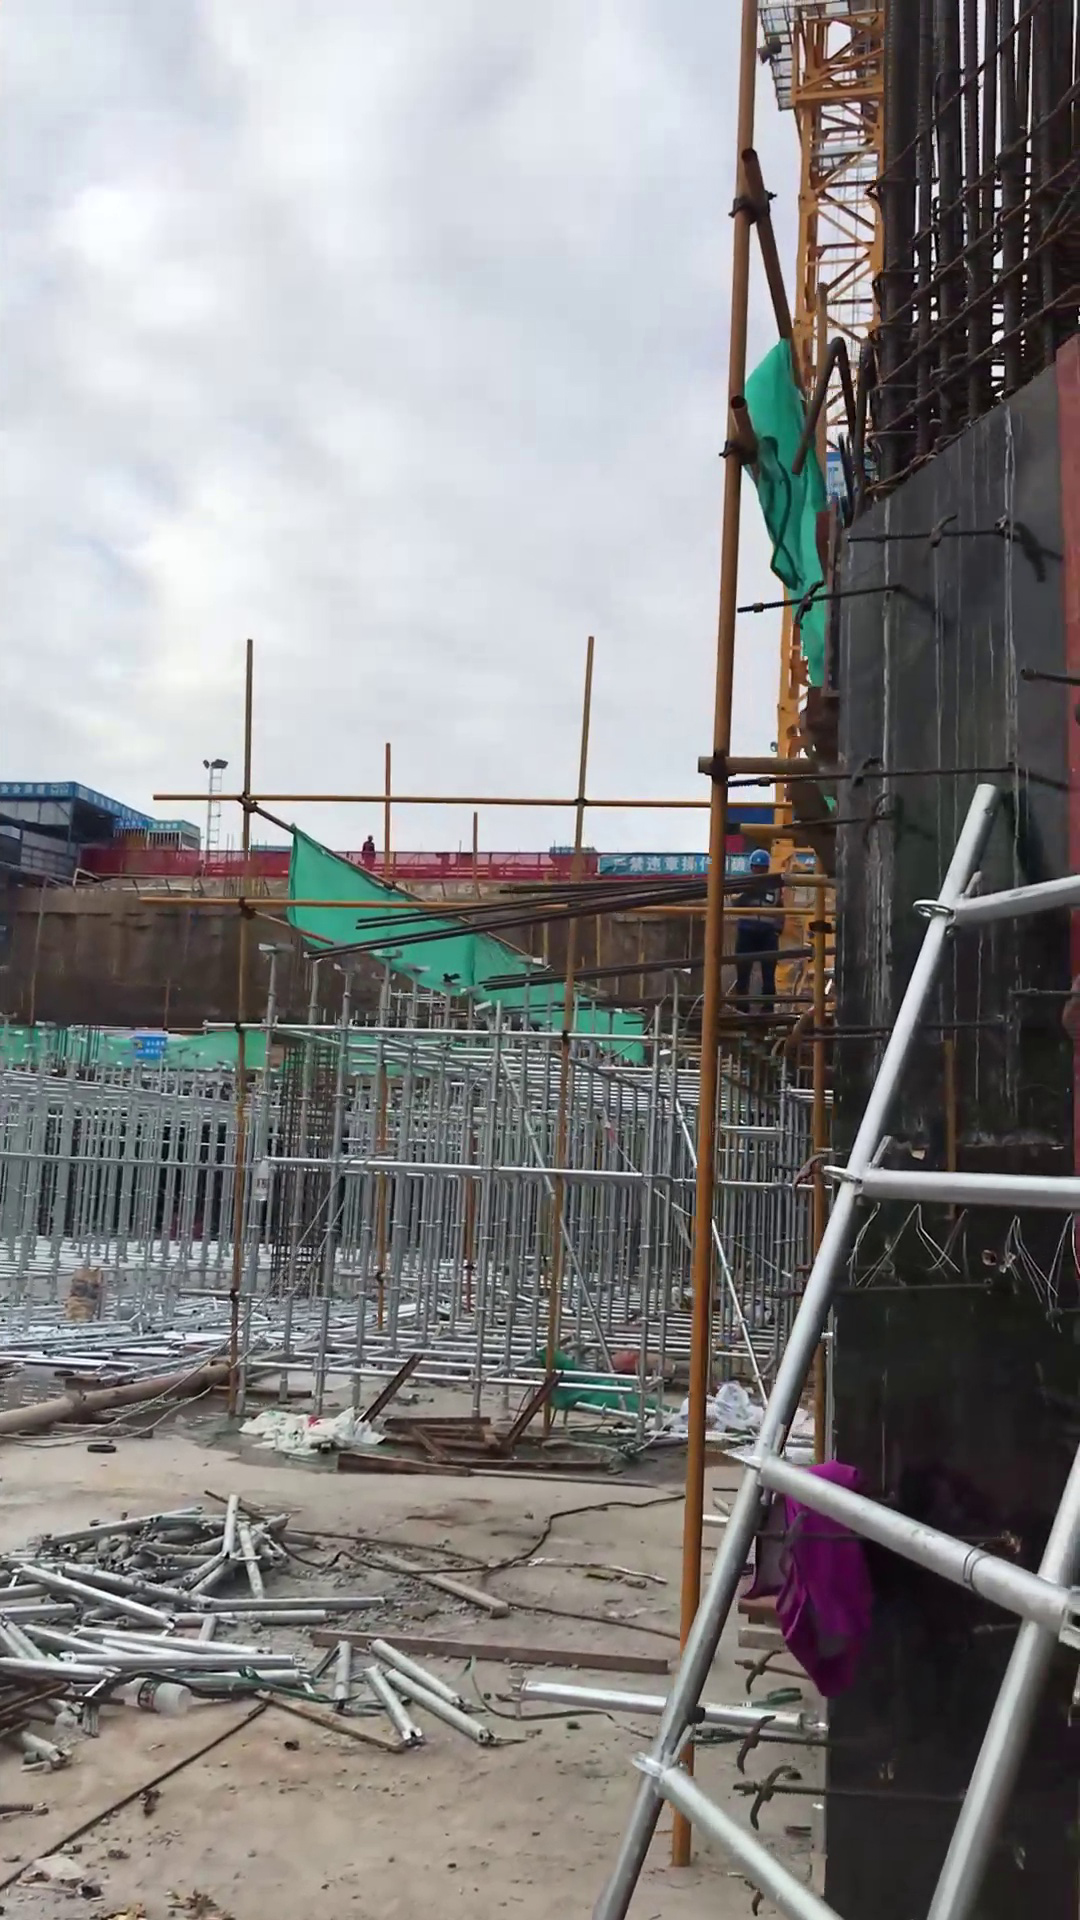fence: (111, 825, 597, 895)
slogan: (596, 849, 752, 880)
